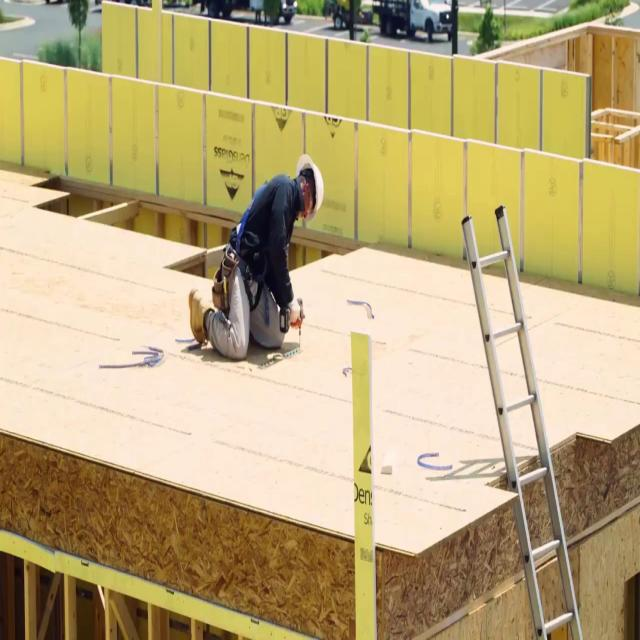Gloves: (286, 290, 310, 328)
Hard_hat: (300, 149, 330, 216)
Safety_boots: (183, 288, 211, 350)
